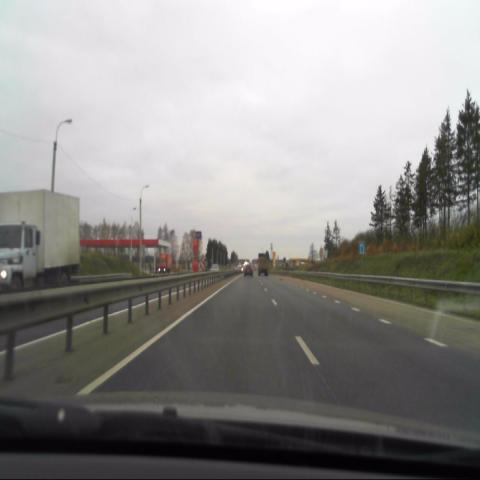5_15_5: (358, 240, 366, 255)
